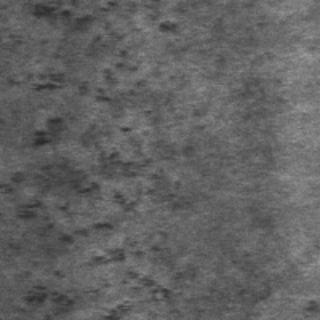rolled pit: (4, 109, 160, 317), (22, 0, 138, 124)
